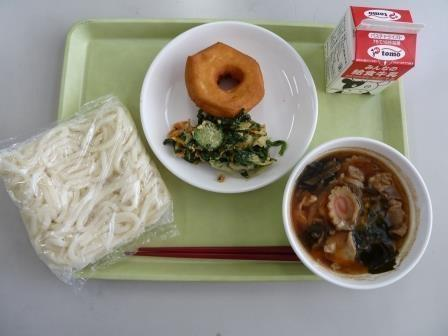Milk: (328, 8, 412, 103)
Salad: (170, 110, 287, 175)
Soups: (292, 146, 436, 284)
Udon: (7, 123, 162, 273)
pastry: (183, 40, 272, 115)
